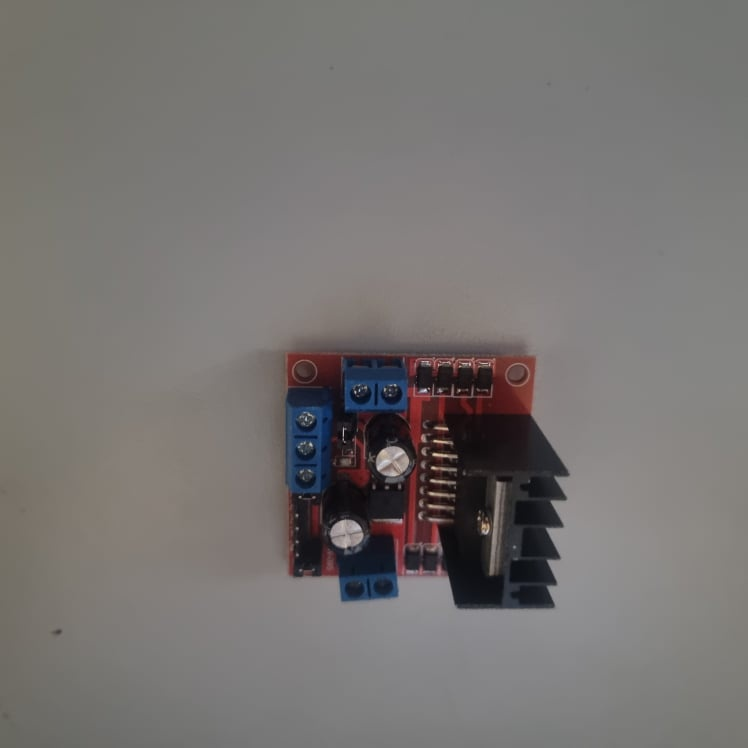MOTOR: (281, 349, 570, 613)
